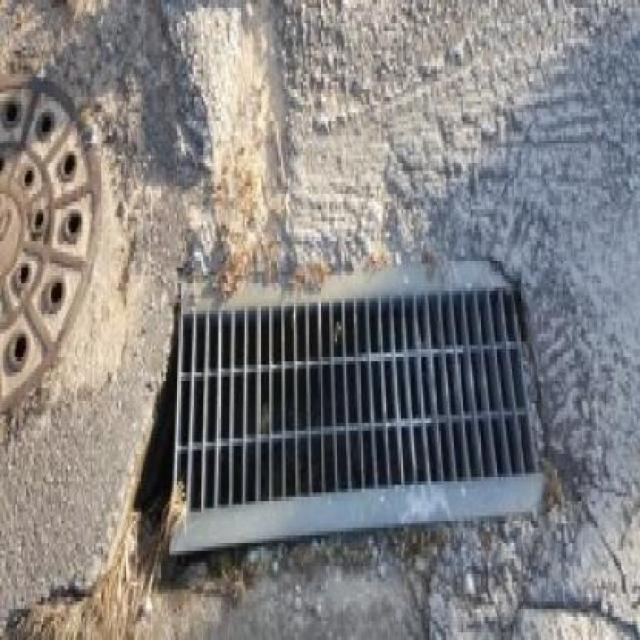Drain Hole: (136, 268, 562, 551)
